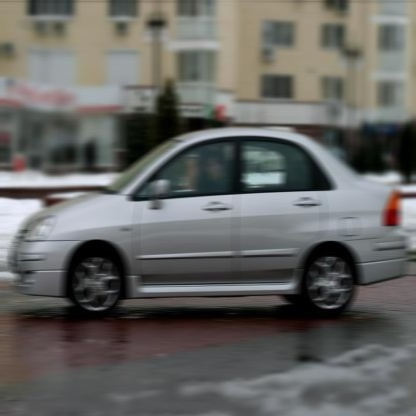Vehicle: (6, 122, 410, 332)
